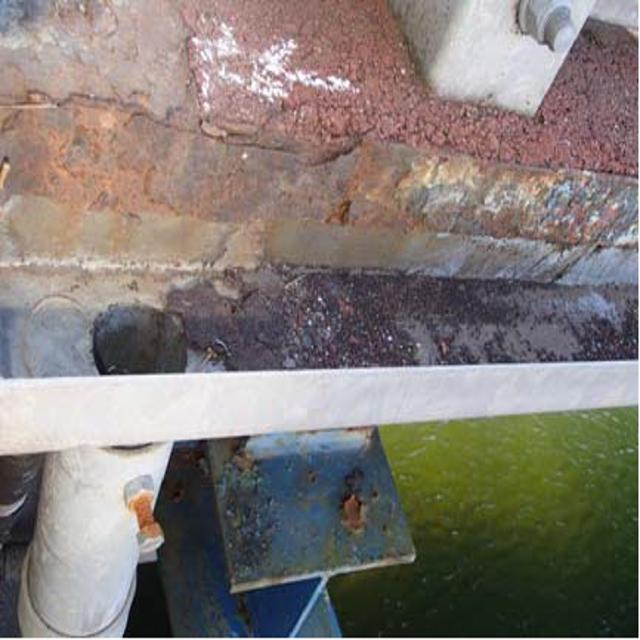corrosion: (36, 86, 604, 294)
